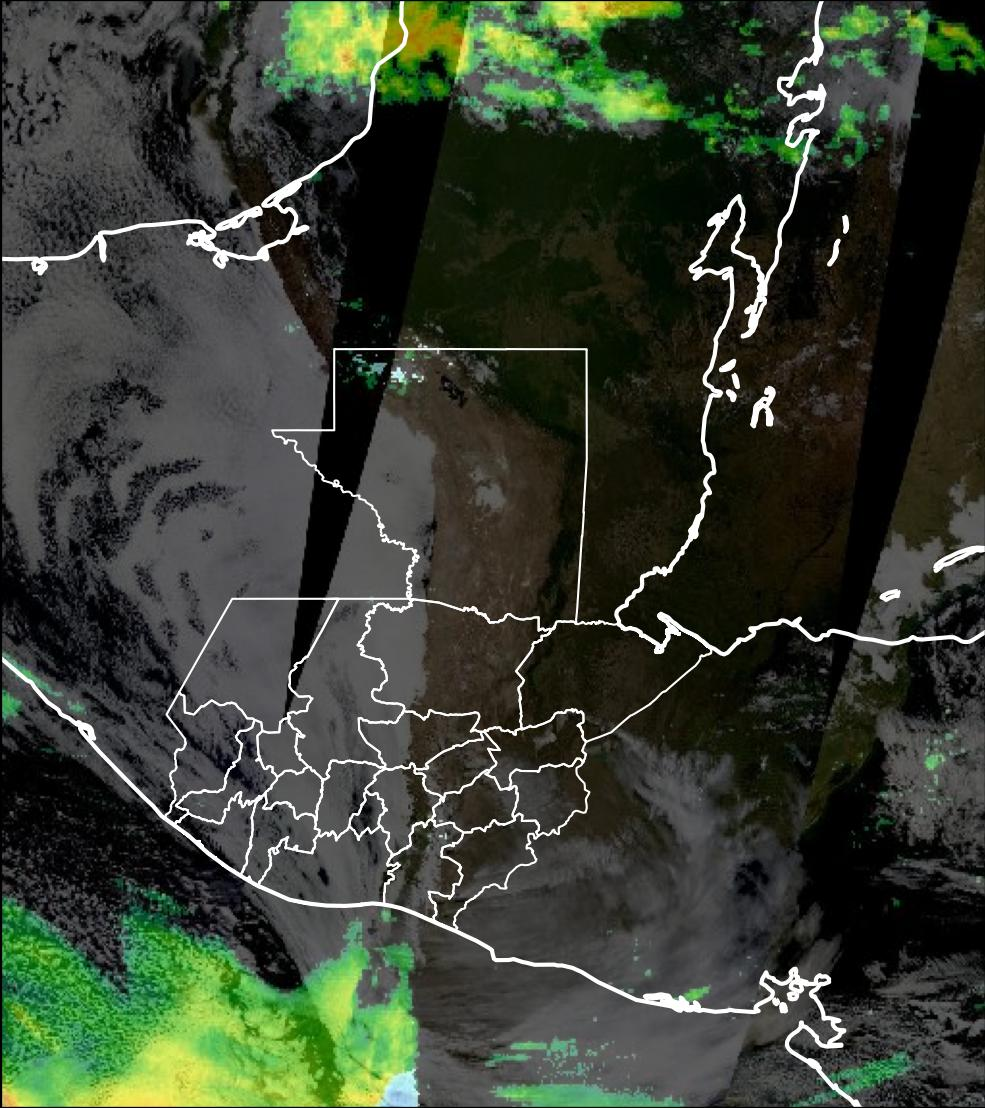precipitacion: (347, 5, 474, 74)
